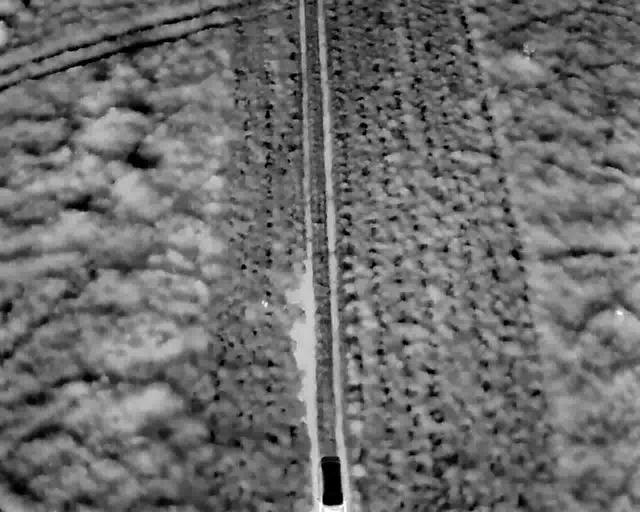car: (315, 453, 347, 511)
